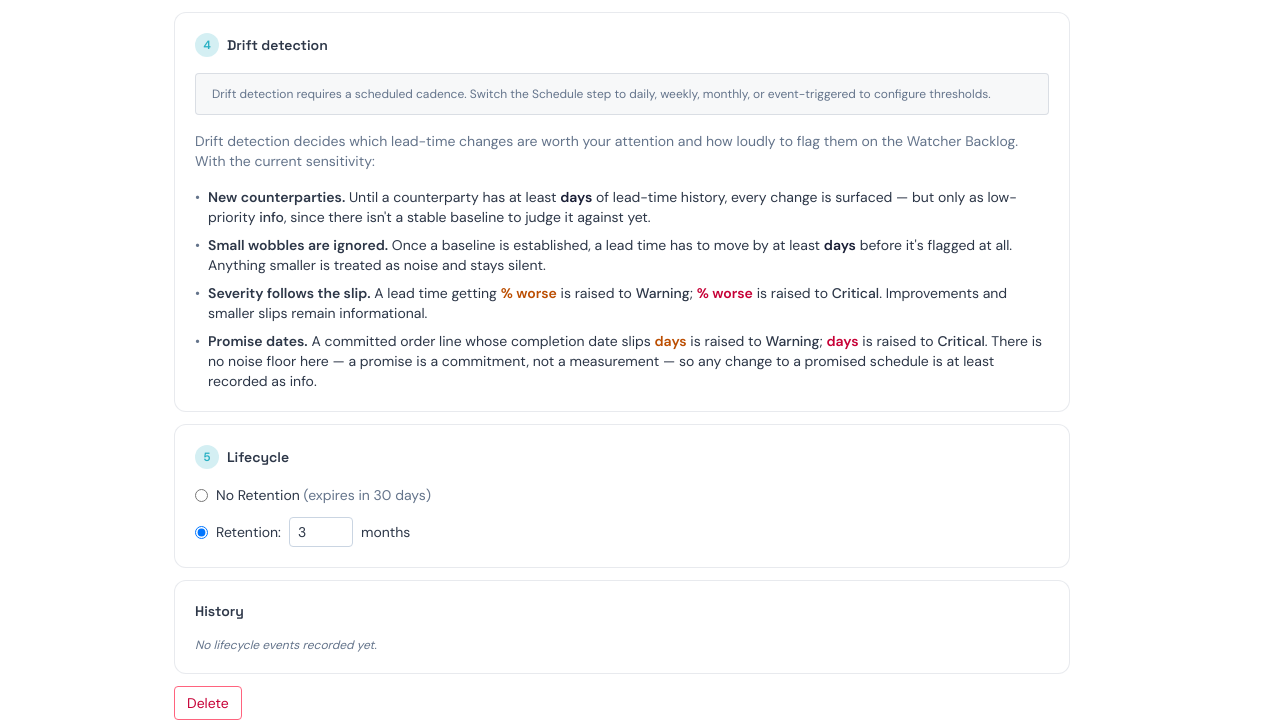
Test: DefinitionEditor (scopeLocked=false — watcher path) › watcher dialog offers three dispositions with Archive selected by default
(page scrolled)
Click the button "Delete" at (208, 703), box x1=174 y1=686 x2=242 y2=719
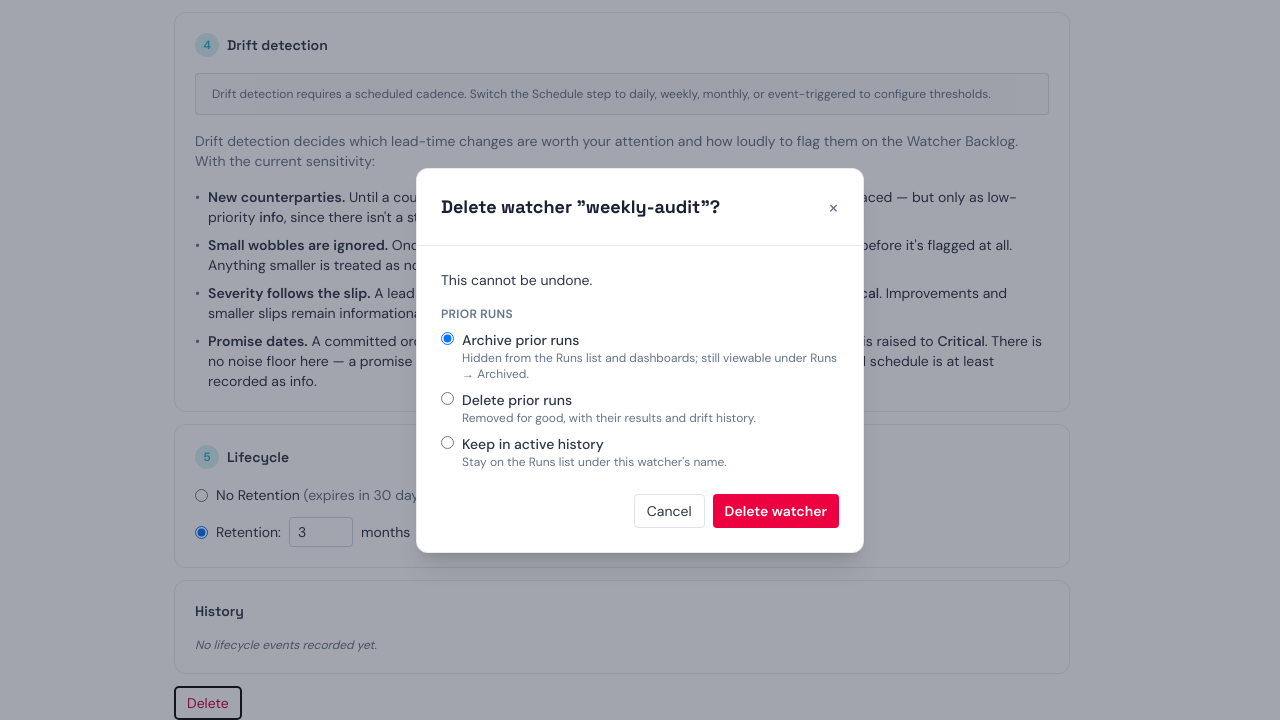
Result: the radio button labelled "Archive prior runs" is checked at x1=441 y1=332 x2=454 y2=344
Result: the radio button labelled "Delete prior runs" is not checked at x1=441 y1=392 x2=454 y2=404
Result: the radio button labelled "Keep in active history" is not checked at x1=441 y1=436 x2=454 y2=448
